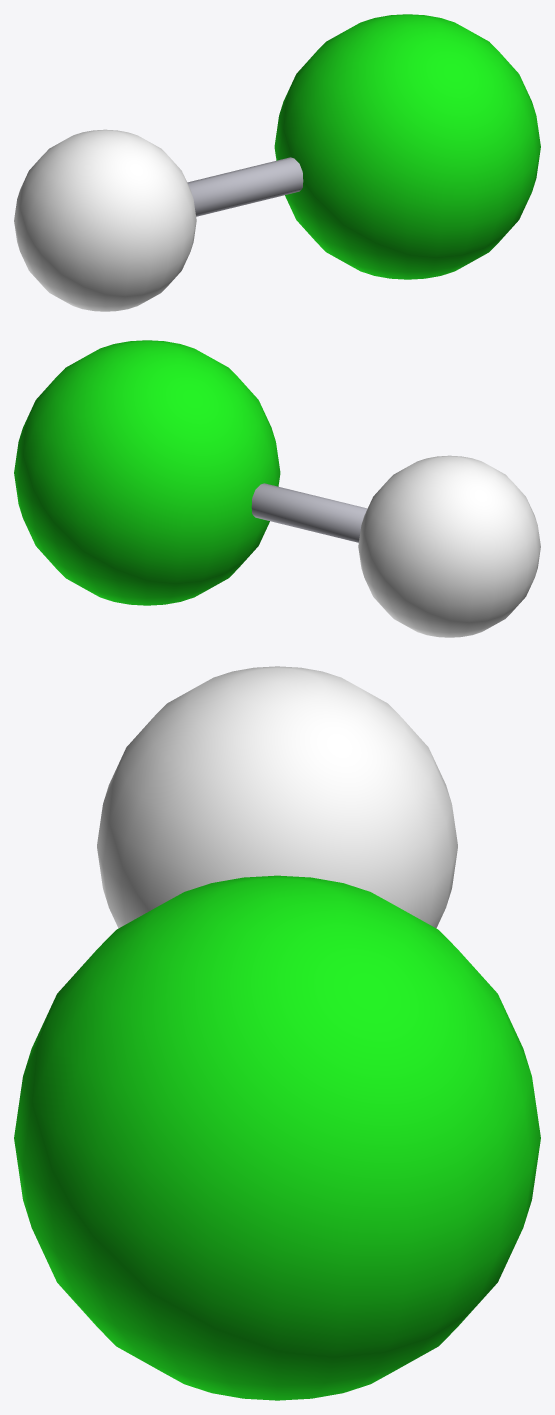
Rendered from hydrogen-chloride.glb.
The picture shows the model from 3 angles, top to bottom: view 1: azimuth 30°, elevation 25°; view 2: azimuth 150°, elevation 25°; view 3: azimuth 270°, elevation 25°; orthographic projection. The views are drawn at different scales.
Parts seen in each view (by area): view 1: Cl0, H1, bond0-0; view 2: Cl0, H1, bond0-0; view 3: Cl0, H1.
Part boxes in pixels (<box>): Cl0: <box>274,14,540,279</box>; H1: <box>14,129,196,311</box>; bond0-0: <box>187,157,303,216</box>; Cl0: <box>14,340,280,605</box>; H1: <box>358,455,540,637</box>; bond0-0: <box>251,483,367,542</box>; Cl0: <box>14,875,540,1400</box>; H1: <box>97,666,457,928</box>.
Size of the model in its own units: 2.26 by 1.05 by 1.05.
